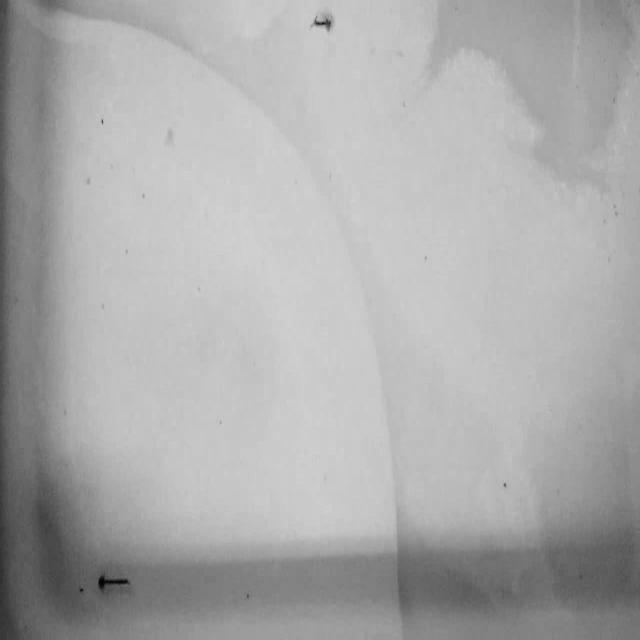larvas: (310, 13, 330, 31)
